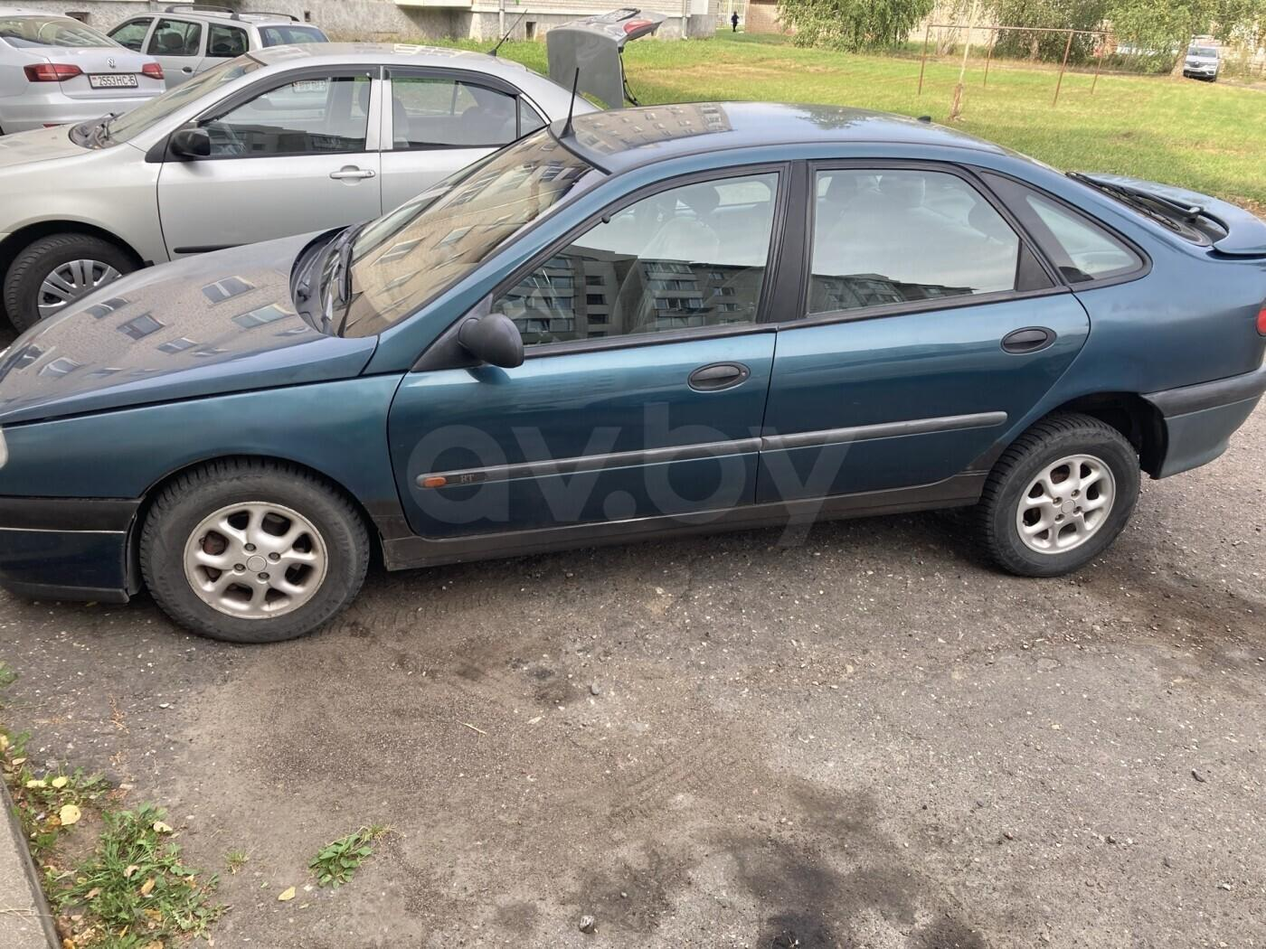Lahuna_1993-1999: (0, 90, 1266, 648)
